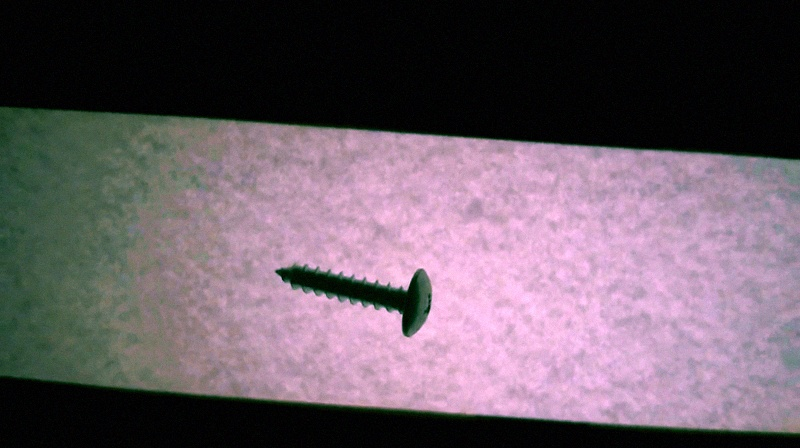S003: (272, 258, 436, 340)
